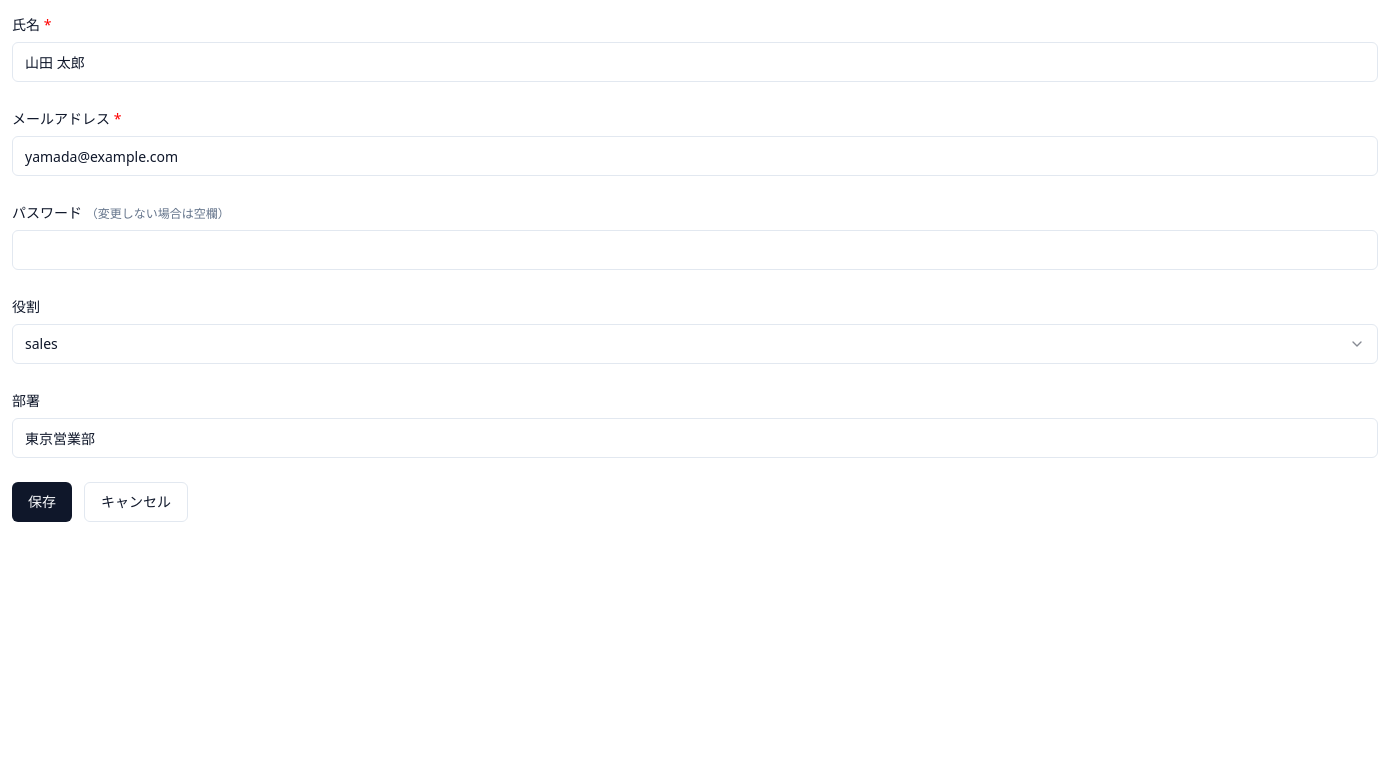
Test: UserForm – 編集モード (mode="edit") › メールアドレスをクリアして保存するとエラーメッセージを表示する
Clear the field labelled "メールアドレス *" at (695, 156), box x1=12 y1=136 x2=1378 y2=176
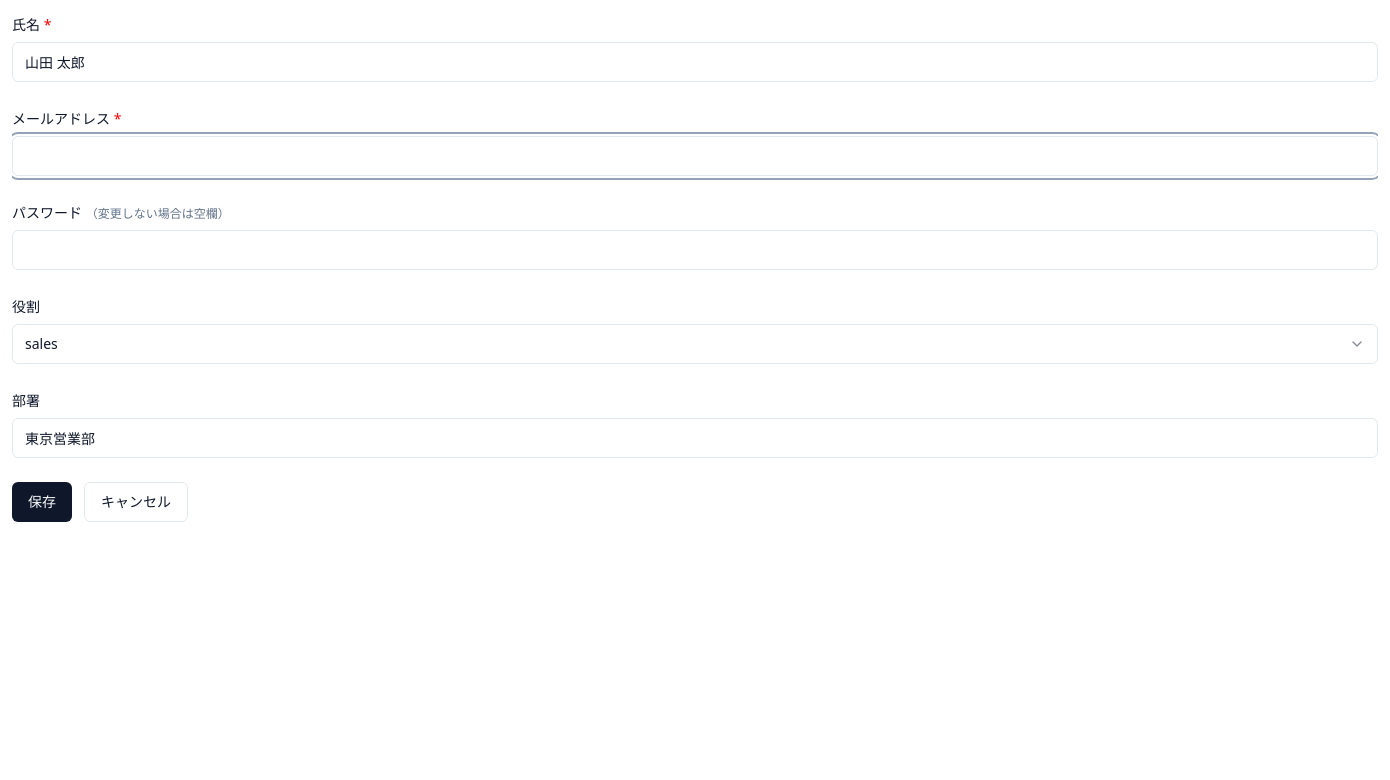
Click the button "保存" at (42, 502), box x1=12 y1=482 x2=72 y2=522
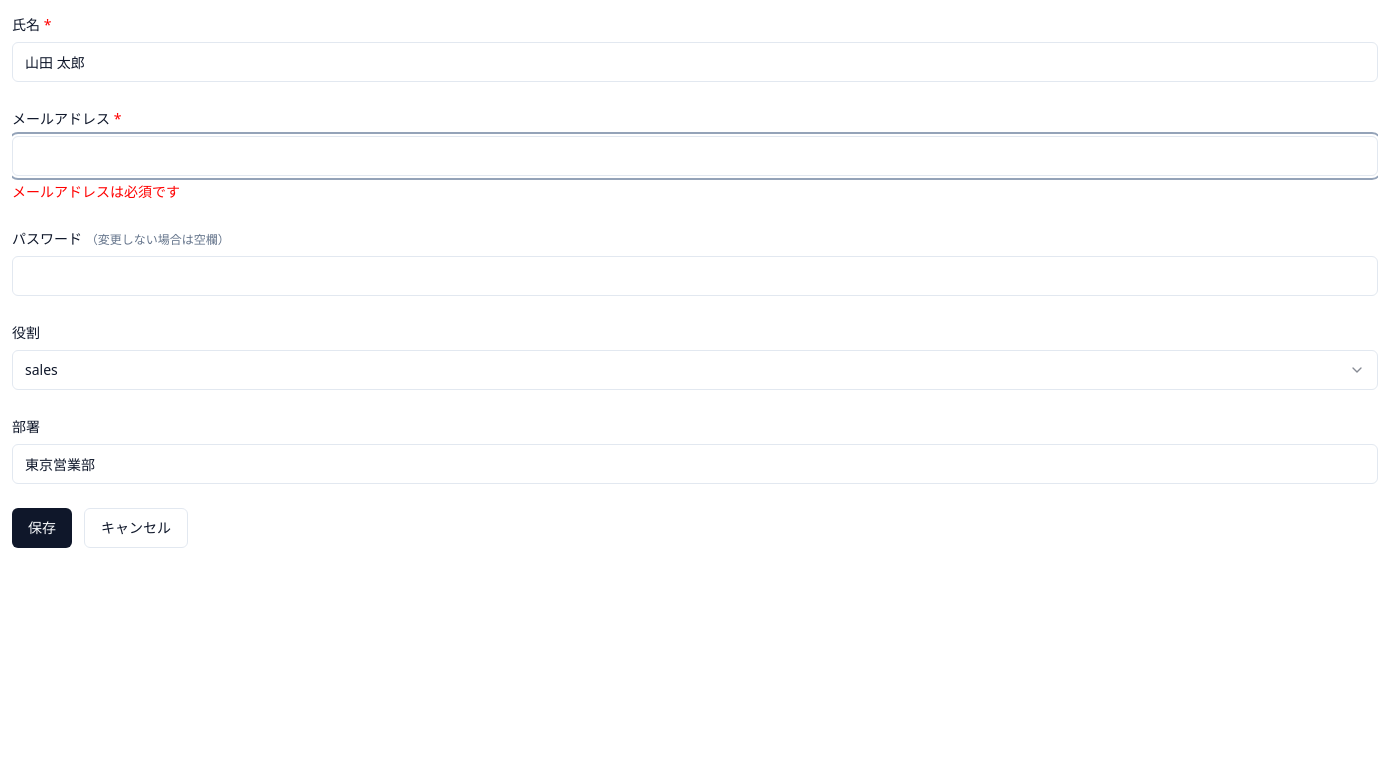
Expected: the text "メールアドレスは必須です" is shown, x1=12 y1=182 x2=180 y2=201
